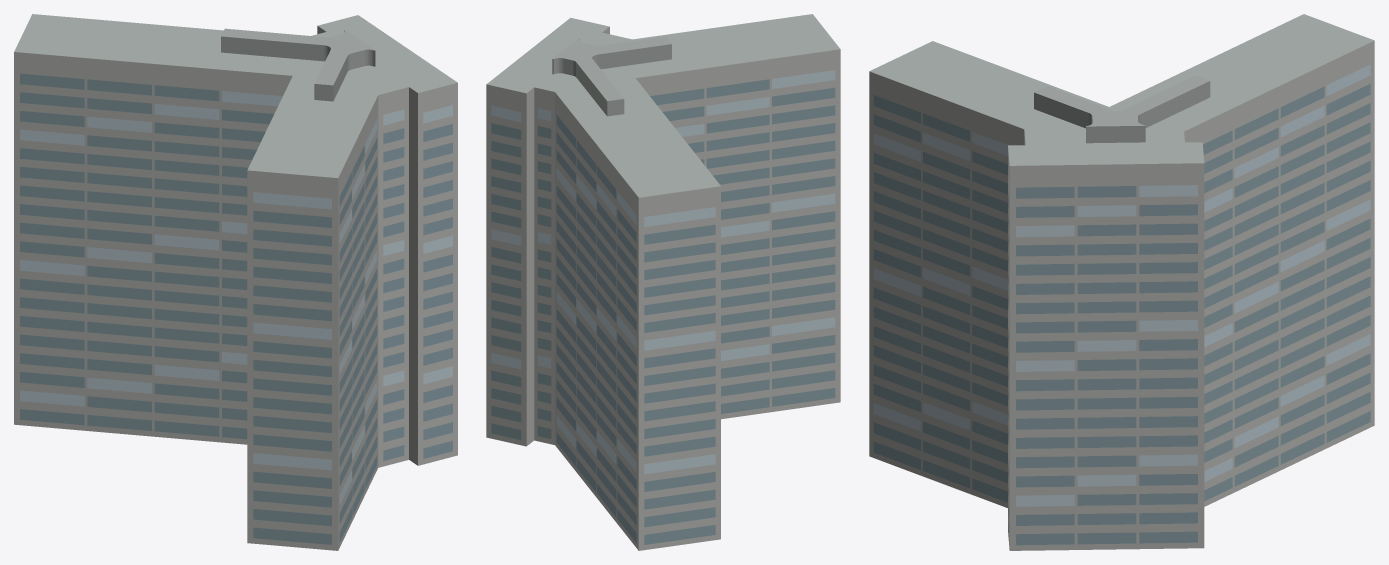
Rendered from fallback-raemian-oksu-riverzen-112.glb.
The picture shows the model from 3 angles, left to right: view 1: azimuth 30°, elevation 25°; view 2: azimuth 150°, elevation 25°; view 3: azimuth 270°, elevation 25°; orthographic projection. The views are drawn at different scales.
Visible parts, largest first — view 1: fallback-raemian-oksu-riverzen-112; view 2: fallback-raemian-oksu-riverzen-112; view 3: fallback-raemian-oksu-riverzen-112.
Part boxes in pixels (x1,y1,x2,y2): fallback-raemian-oksu-riverzen-112: [14, 14, 457, 550]; fallback-raemian-oksu-riverzen-112: [486, 14, 840, 550]; fallback-raemian-oksu-riverzen-112: [869, 14, 1374, 550].
Size of the model in its own units: 47.06 by 58 by 66.16.
